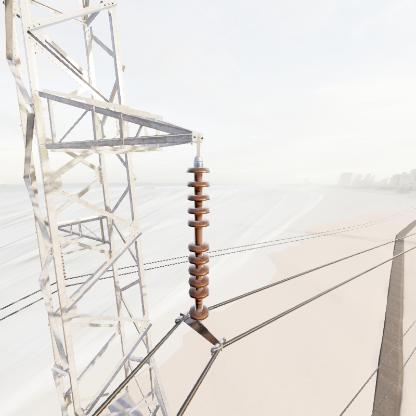insulator: (183, 162, 213, 325)
